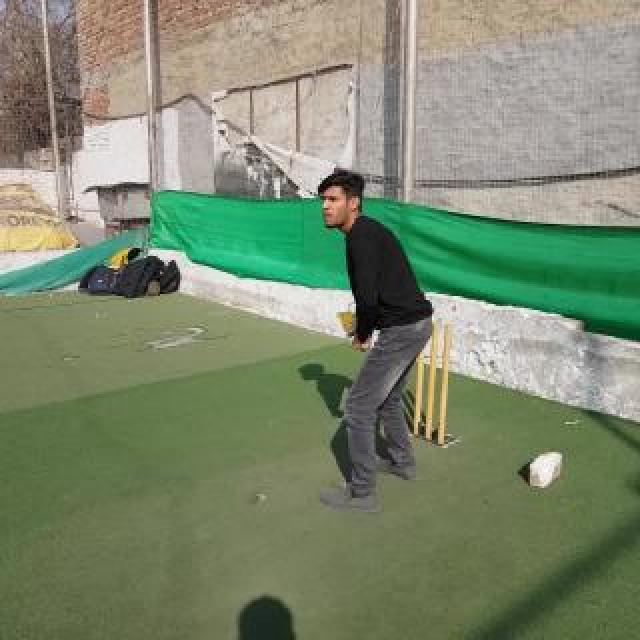bat: (337, 311, 369, 349)
